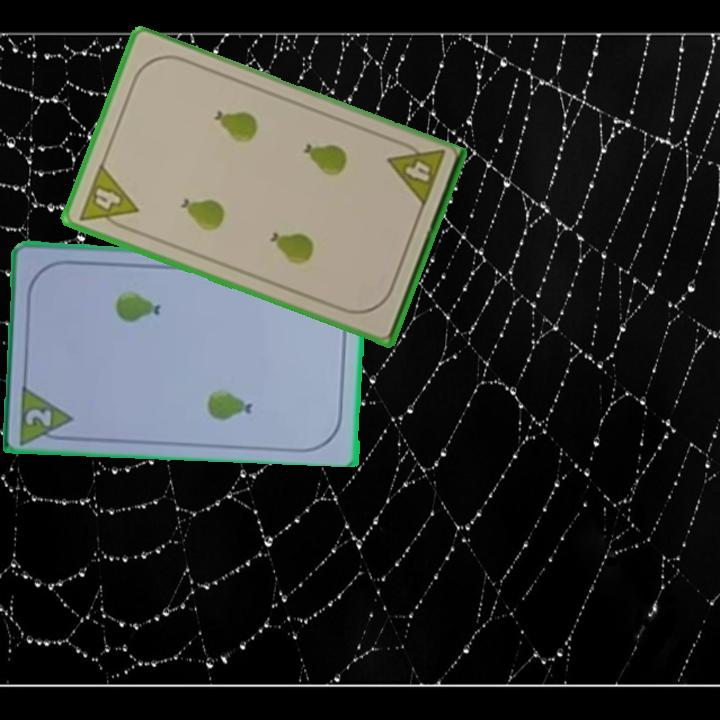2p: (21, 405, 55, 429)
4p: (76, 160, 141, 235), (384, 136, 448, 211)
